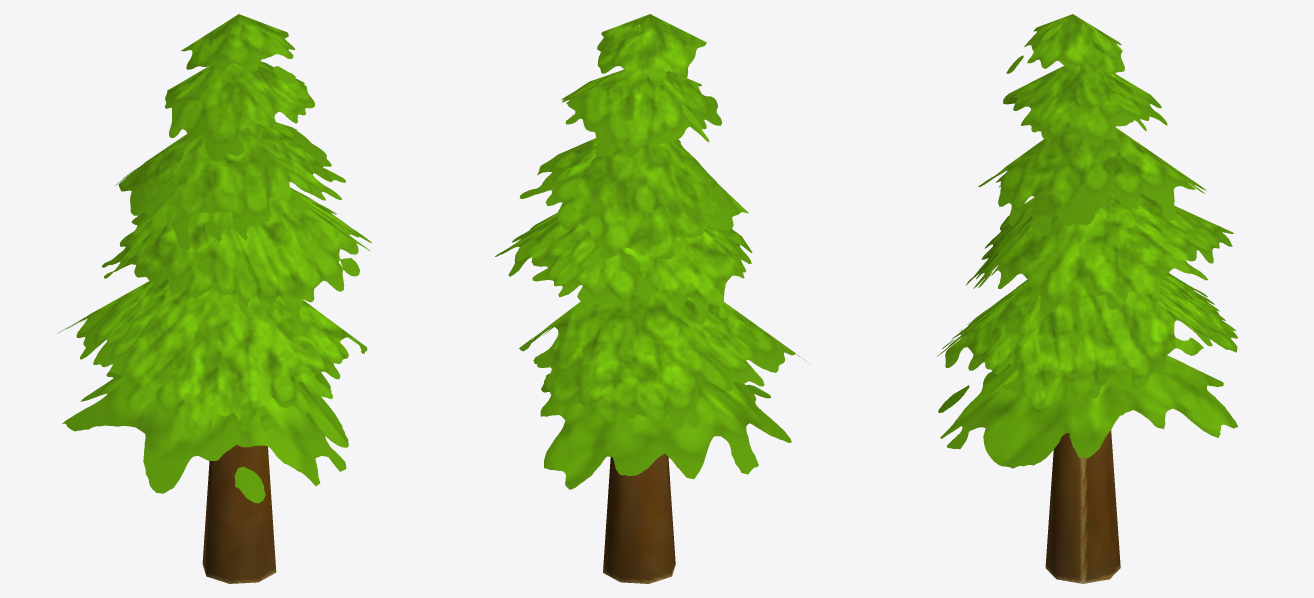
File: spruce.glb
3 views of the same model, side by side, from view 1: azimuth 30°, elevation 25°; view 2: azimuth 150°, elevation 25°; view 3: azimuth 270°, elevation 25° (orthographic).
Bounding box in the file's own units: 1.3 × 2.02 × 1.36.
1 material, 1 textured.
